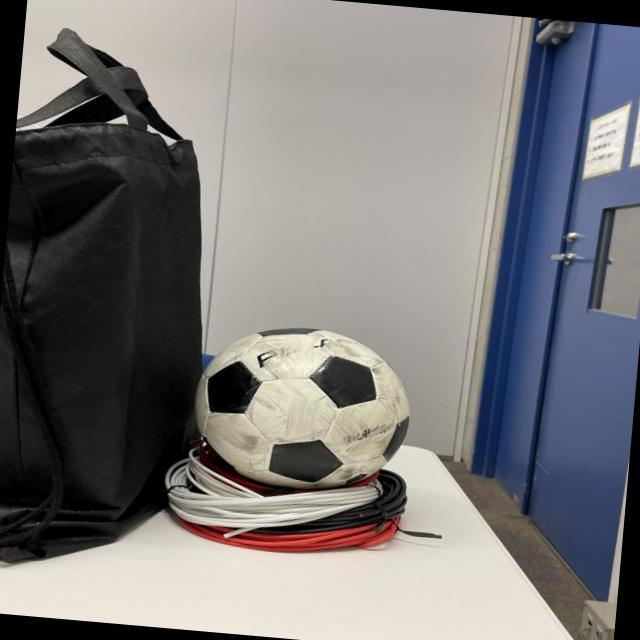Soccer Ball: (188, 317, 416, 494)
